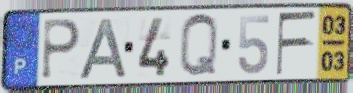4: (136, 16, 172, 79)
5: (237, 13, 271, 76)
A: (76, 16, 131, 81)
F: (275, 9, 319, 78)
P: (39, 18, 83, 82)
Q: (177, 12, 220, 81)
